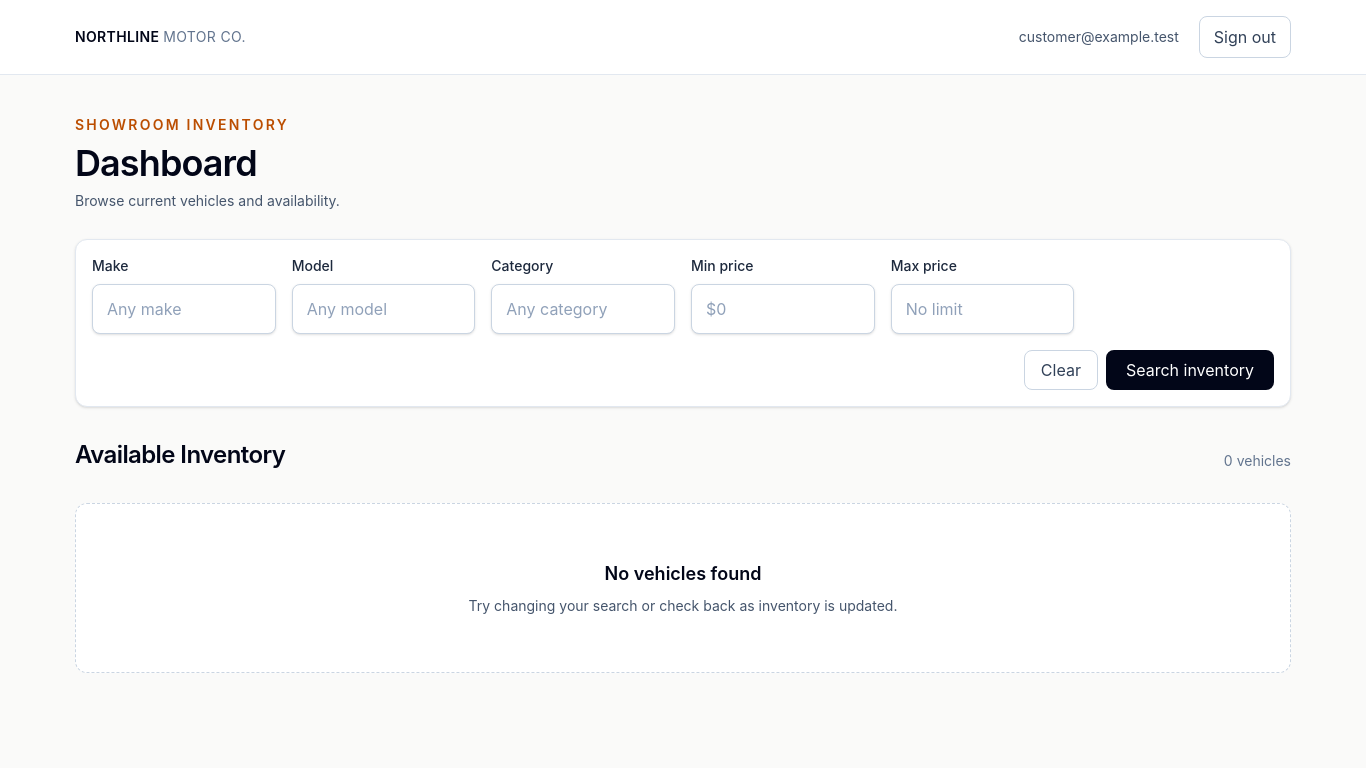
Scenario: dashboard › logs out and clears the stored session
This screenshot has width=1366, height=768.
Click the button "Sign out". click: coordinates (1245, 37)
box: [1199,16,1291,58]
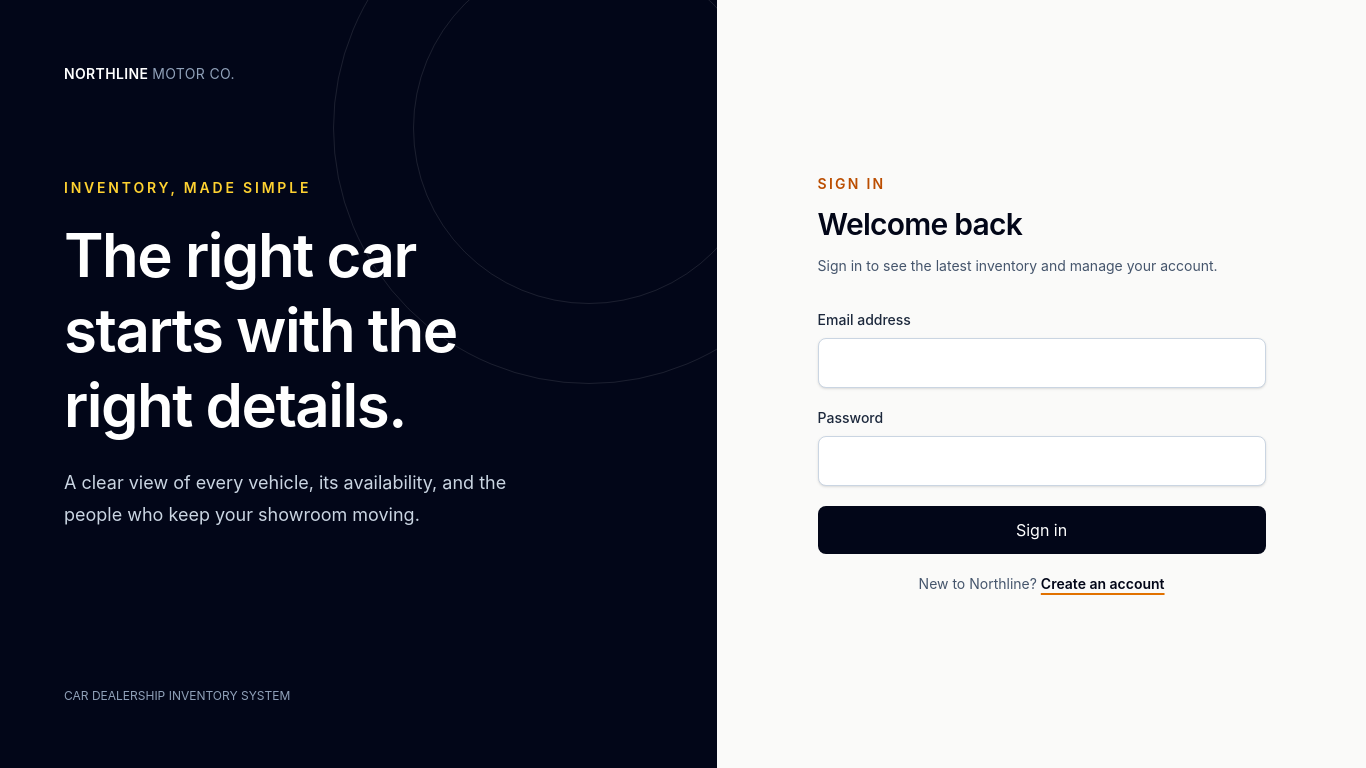
Result: the heading "Welcome back" is shown at [818,206,1022,242]
